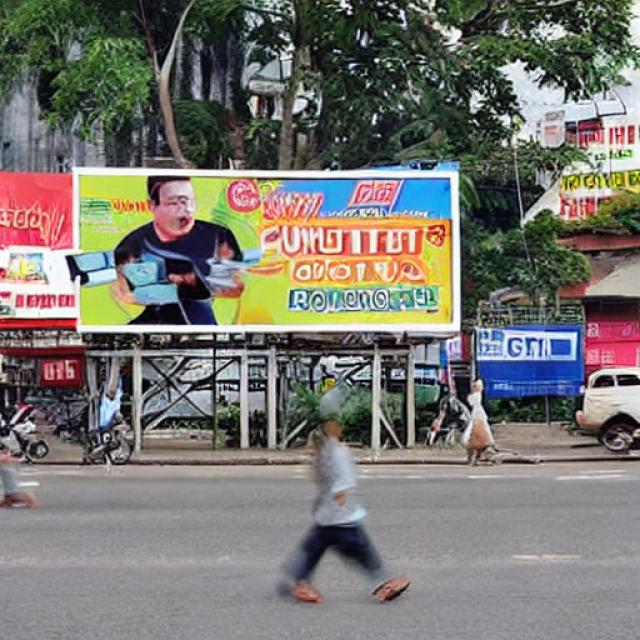Billboard: (69, 164, 465, 332)
